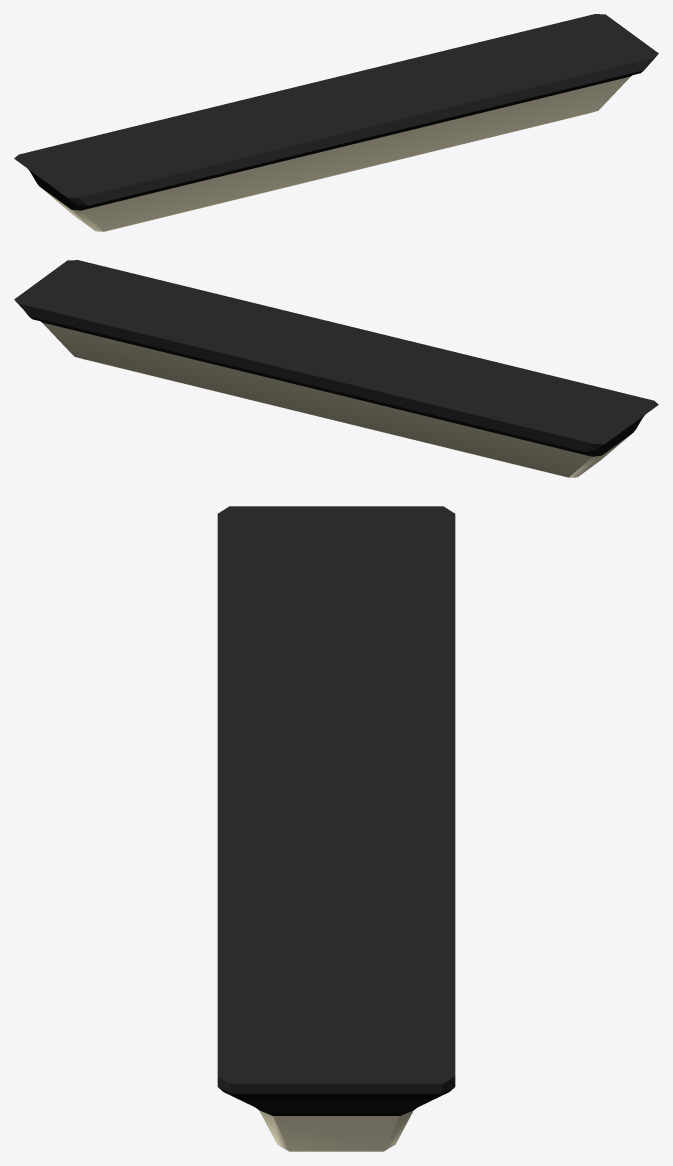
Rendered from Mall_Lights.fbx.
3 renders of one model, top to bottom at view 1: azimuth 30°, elevation 25°; view 2: azimuth 150°, elevation 25°; view 3: azimuth 270°, elevation 25°, orthographic. The views are drawn at different scales.
Parts seen in each view (by area): view 1: Mall_Lights; view 2: Mall_Lights; view 3: Mall_Lights.
Part boxes in pixels (x1,y1,x2,y2): Mall_Lights: (14,14,658,231); Mall_Lights: (14,260,658,477); Mall_Lights: (217,506,455,1151).
Size of the model in its own units: 1139 by 111 by 198.
